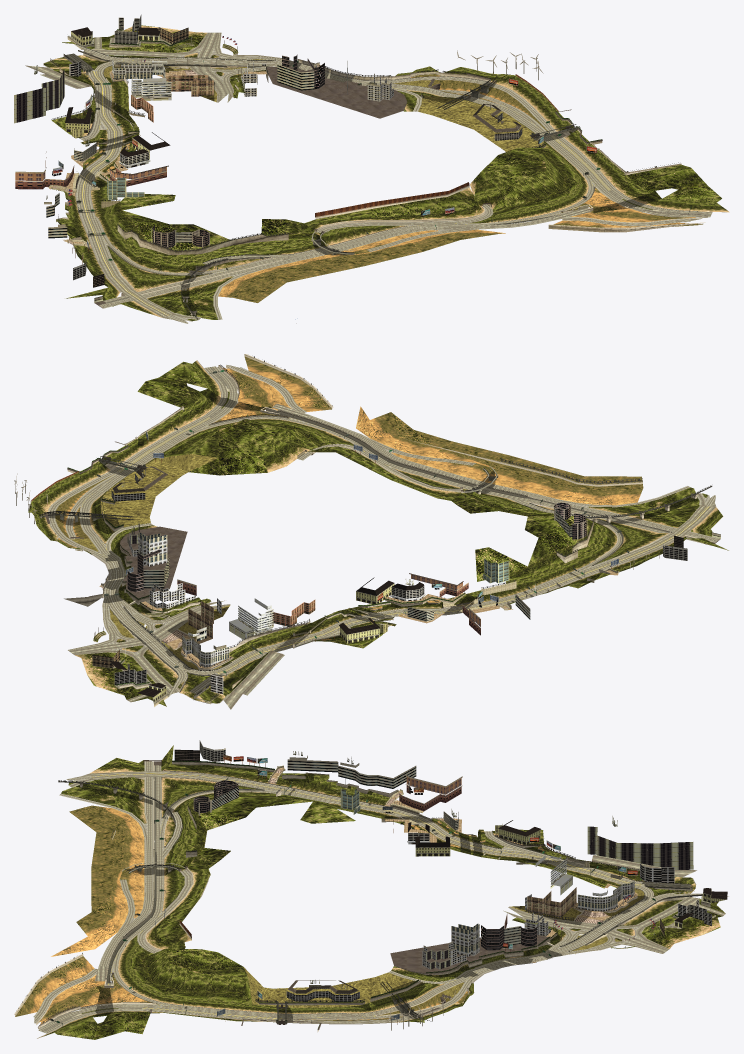
Rendered from track-B2_C5_V2.glb.
3 views of the same model, one above another, from view 1: azimuth 30°, elevation 25°; view 2: azimuth 150°, elevation 25°; view 3: azimuth 270°, elevation 25° (orthographic). The views are drawn at different scales.
Parts seen in each view (by area): view 1: B2_C5_V2; view 2: B2_C5_V2; view 3: B2_C5_V2.
Boxes of the visible parts, x1=… form: B2_C5_V2: x1=14, y1=14, x2=729, y2=323; B2_C5_V2: x1=14, y1=354, x2=728, y2=709; B2_C5_V2: x1=14, y1=740, x2=728, y2=1039.
Bounding box in the file's own units: 1795 × 163 × 1874.
Materials: 89 (88 with a texture image).
